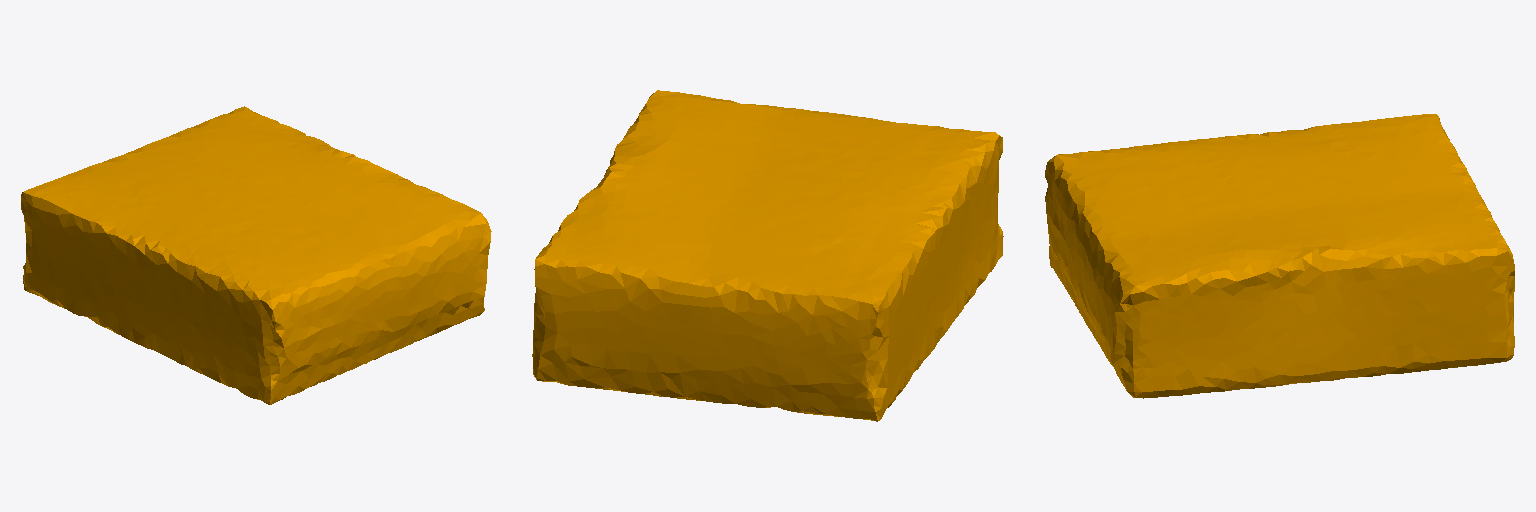
URDF robot description (gelatinBox):
<?xml version="1.0" encoding="UTF-8"?>
<robot name="gelatinBox">
	<link name="base">
		<collision>
			<geometry>
				<mesh filename="gelatinBox.obj"/>
			</geometry>
			<origin xyz="0 0 0"/>
		</collision>
		<visual>
			<geometry>
				<mesh filename="gelatinBox.obj"/>
			</geometry>
			<origin xyz="0 0 0"/>
		</visual>
		<inertial>
			<mass value="0.005"/>
			<inertia ixx="3.3779594615911565e-06" ixy="2.1973684300398676e-07" ixz="6.808098649175087e-09" iyy="2.4816314141094294e-06" iyz="-1.271109877865937e-08" izz="5.2204400830536645e-06" />
			<origin xyz="0.00010187438525980531 0.00038707272431477826 -0.0006172596423280663"/>
		</inertial>
	</link>
</robot>

--- Render facts (derived) ---
The picture shows the robot from 3 angles, left to right: view 1: azimuth 30°, elevation 25°; view 2: azimuth 150°, elevation 25°; view 3: azimuth 270°, elevation 25°; orthographic projection.
Robot: gelatinBox — 1 links, 0 joints (none); root link base; default pose: every joint at zero.
Visible links, largest first — view 1: base; view 2: base; view 3: base.
Boxes of the visible links, x1,y1,x2,y2 form: base: (21,106,491,404); base: (532,90,1003,421); base: (1045,114,1514,398).
Size in the robot's own frame: 0.0892 by 0.1013 by 0.0302 metres.
Meshes: 1 distinct files referenced, 1 mesh visuals loaded (1 OBJ).